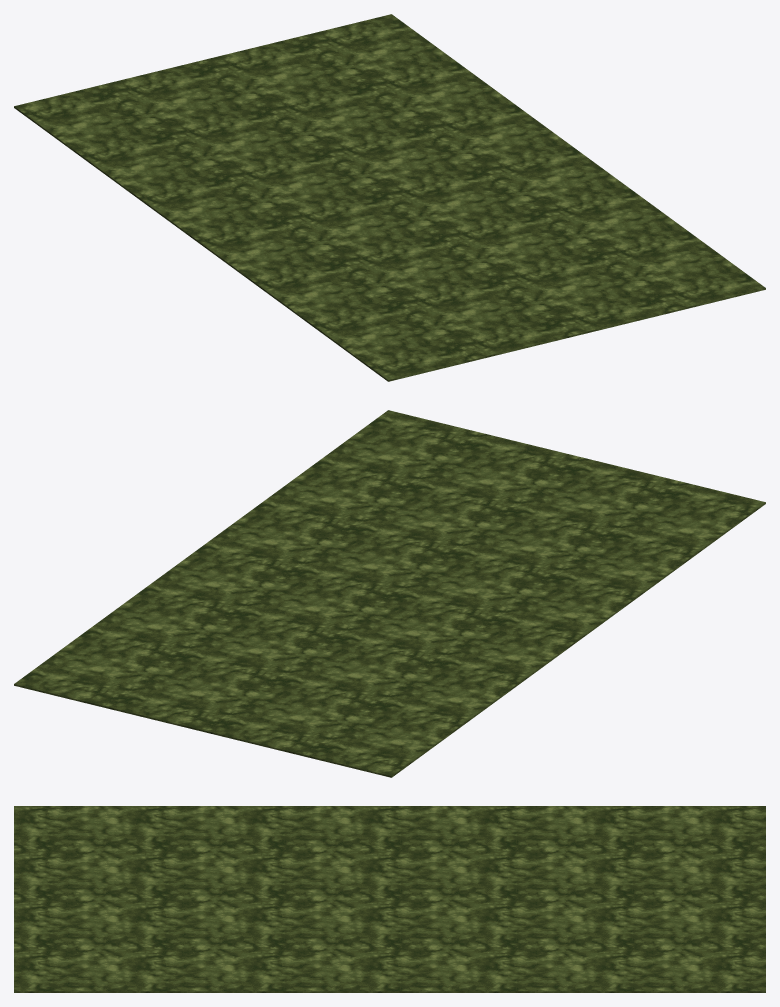
Rendered from ZigLev3.glb.
The picture shows the model from 3 angles, top to bottom: view 1: azimuth 30°, elevation 25°; view 2: azimuth 150°, elevation 25°; view 3: azimuth 270°, elevation 25°; orthographic projection.
Visible parts, largest first — view 1: ZigLev3; view 2: ZigLev3; view 3: ZigLev3.
Part boxes in pixels (x1,y1,x2,y2): ZigLev3: [14, 14, 765, 381]; ZigLev3: [14, 410, 765, 777]; ZigLev3: [14, 806, 765, 992].
Bounding box in the file's own units: 966 × 4 × 1658.
Materials: 1 (1 with a texture image).
